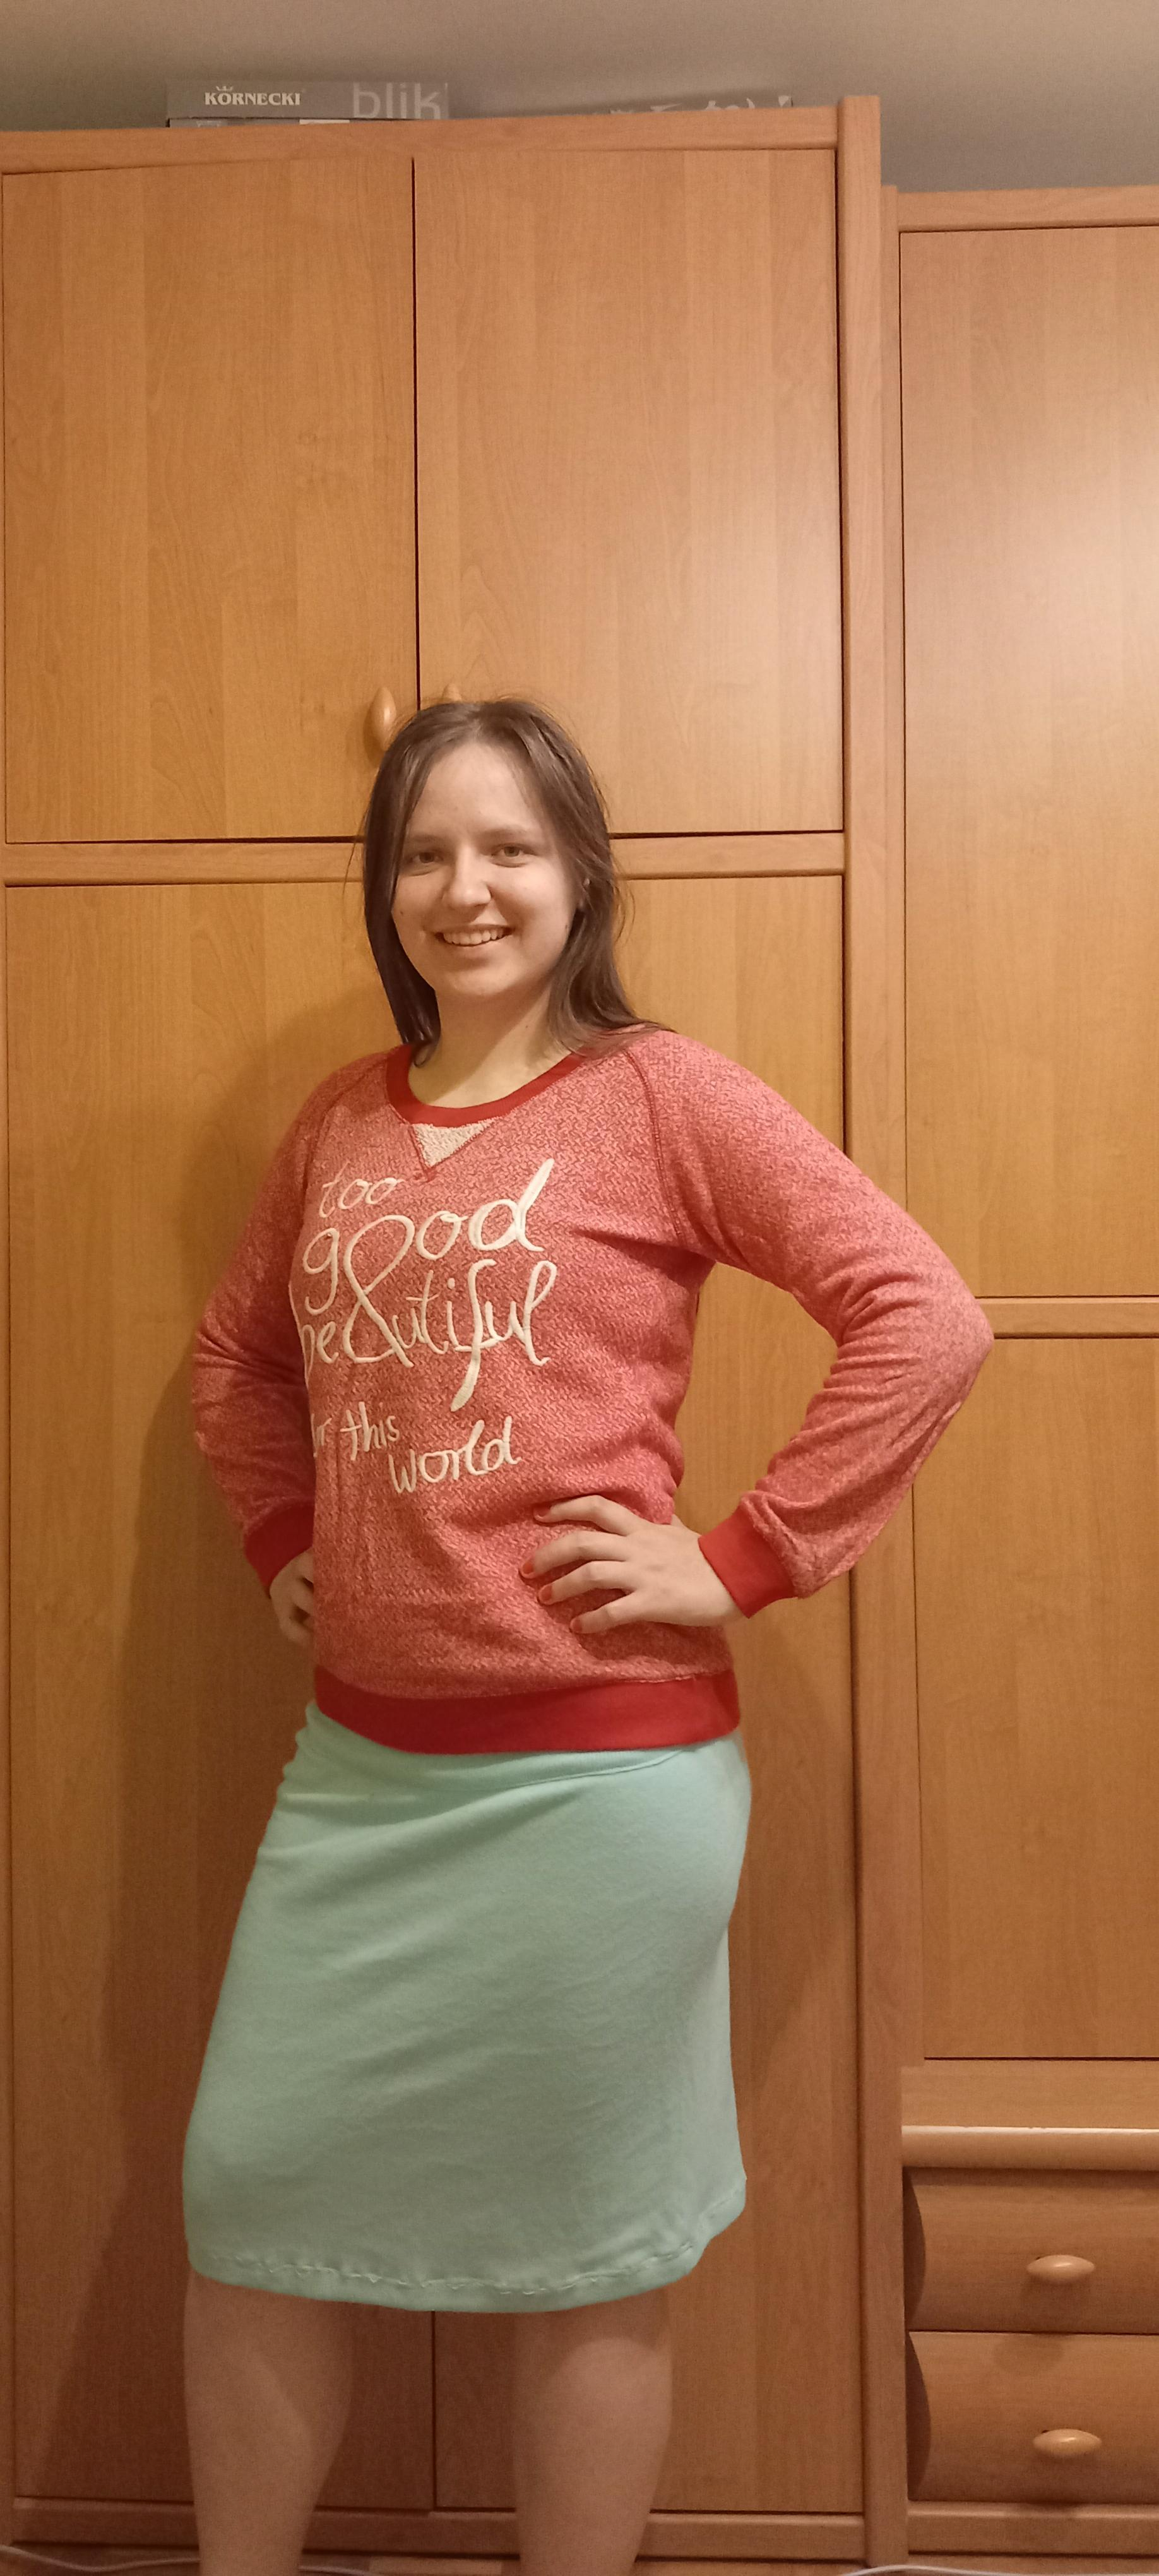skirt: (182, 1704, 755, 2316)
sweater: (190, 1025, 992, 1756)
